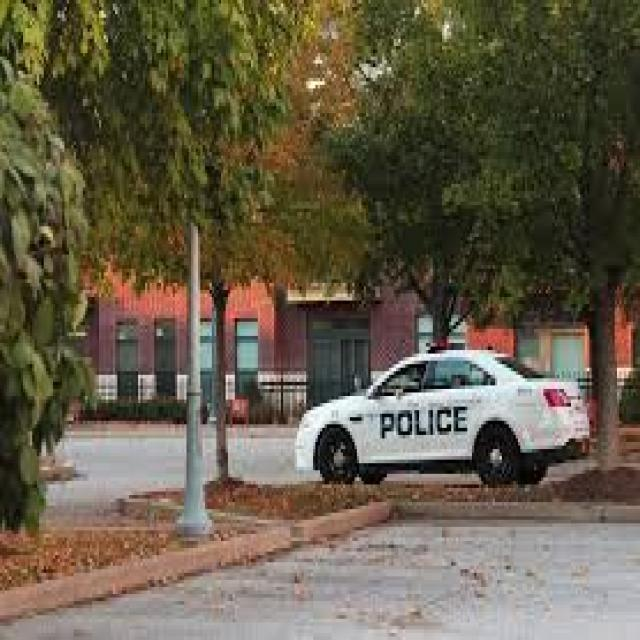cop: (296, 340, 595, 486)
